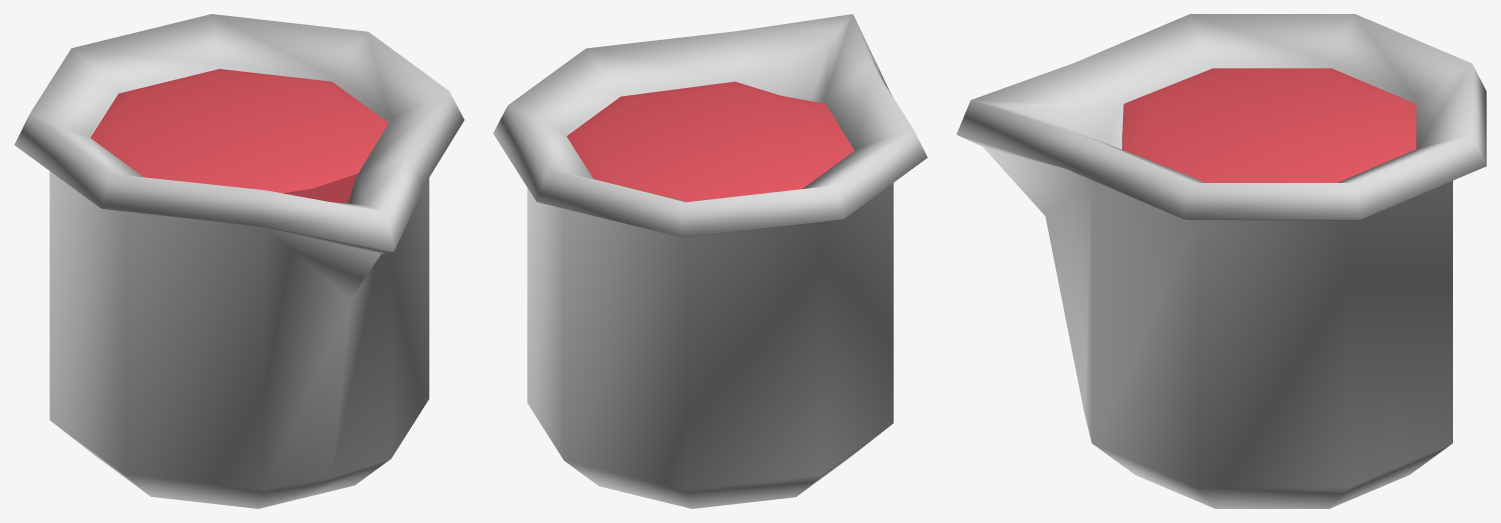
Rendered from beaker.fbx.
3 views of the same model, side by side, from view 1: azimuth 30°, elevation 25°; view 2: azimuth 150°, elevation 25°; view 3: azimuth 270°, elevation 25° (orthographic). The views are drawn at different scales.
Parts seen in each view (by area): view 1: SmallBeaker, SmallBeaker.Liquid; view 2: SmallBeaker, SmallBeaker.Liquid; view 3: SmallBeaker, SmallBeaker.Liquid.
Boxes of the visible parts, x1,y1,x2,y2 form: SmallBeaker: (14, 14, 464, 508); SmallBeaker.Liquid: (90, 69, 388, 203); SmallBeaker: (493, 14, 927, 508); SmallBeaker.Liquid: (566, 81, 854, 201); SmallBeaker: (956, 14, 1486, 508); SmallBeaker.Liquid: (1122, 68, 1416, 182).
Size of the model in its own units: 0.1765 by 0.1605 by 0.2184.
